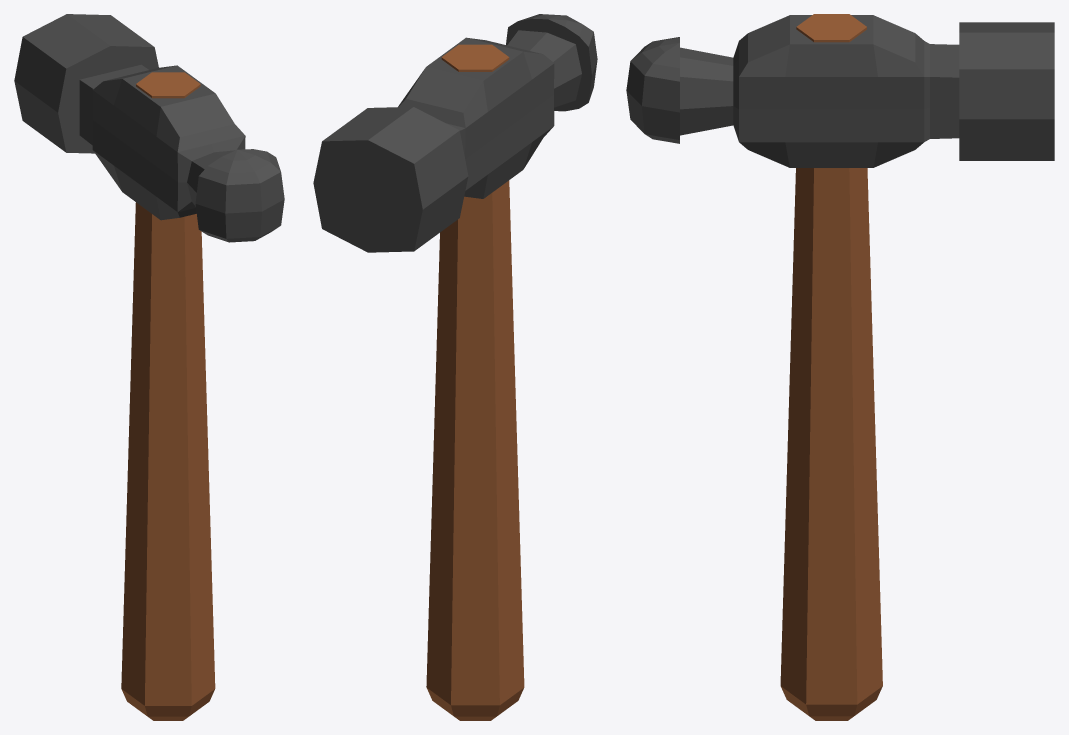
File: ballpeenhammer.fbx
3 views of the same model, side by side, from view 1: azimuth 30°, elevation 25°; view 2: azimuth 150°, elevation 25°; view 3: azimuth 270°, elevation 25° (orthographic). The views are drawn at different scales.
Parts seen in each view (by area): view 1: BallPeenHammer; view 2: BallPeenHammer; view 3: BallPeenHammer.
Part boxes in pixels (x1,y1,x2,y2): BallPeenHammer: [14, 14, 284, 720]; BallPeenHammer: [313, 14, 597, 720]; BallPeenHammer: [626, 14, 1054, 720].
Size of the model in its own units: 2.98 by 17 by 9.67.
